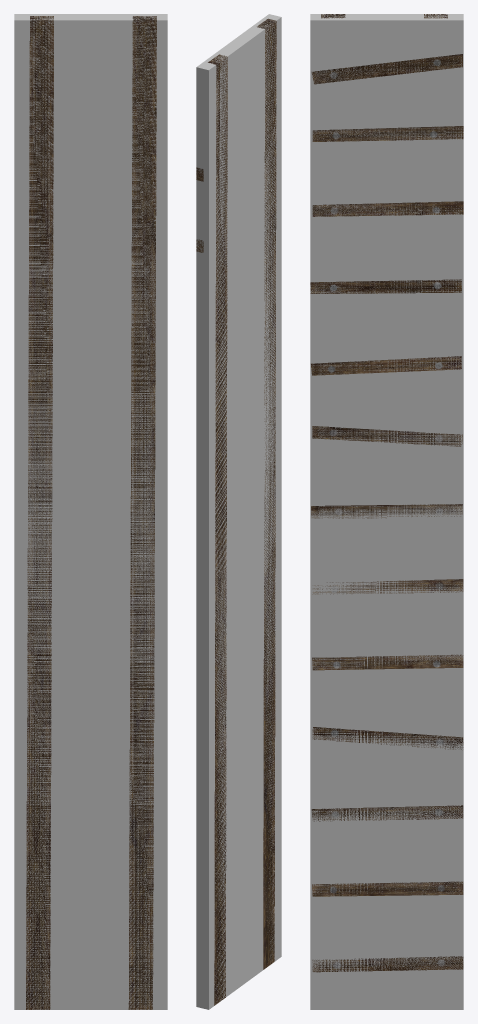
The model's file is SM_Ladder.fbx.
3 views of the same model, side by side, from view 1: azimuth 90°, elevation 25°; view 2: azimuth 150°, elevation 25°; view 3: azimuth 270°, elevation 25° (orthographic). The views are drawn at different scales.
Visible parts, largest first — view 1: SM_Ladder_ConvexHulls, SM_Ladder; view 2: SM_Ladder_ConvexHulls, SM_Ladder; view 3: SM_Ladder_ConvexHulls, SM_Ladder.
Part boxes in pixels (<box>): SM_Ladder_ConvexHulls: <box>14,14,167,1009</box>; SM_Ladder: <box>26,16,156,1009</box>; SM_Ladder_ConvexHulls: <box>196,14,281,1009</box>; SM_Ladder: <box>196,18,276,1005</box>; SM_Ladder_ConvexHulls: <box>310,14,463,1009</box>; SM_Ladder: <box>310,14,463,972</box>.
Bounding box in the file's own units: 6.83 × 68.57 × 489.
2 materials, 1 textured.
